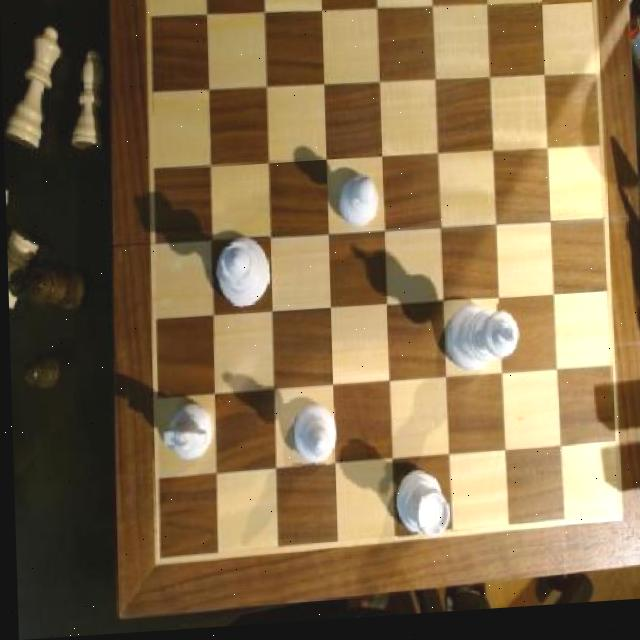black-rook: (290, 411, 334, 474)
white-bishop: (443, 310, 518, 377)
white-king: (160, 403, 213, 465)
white-knight: (339, 177, 380, 232)
white-pawn: (209, 239, 269, 320)
white-queen: (390, 477, 448, 545)
